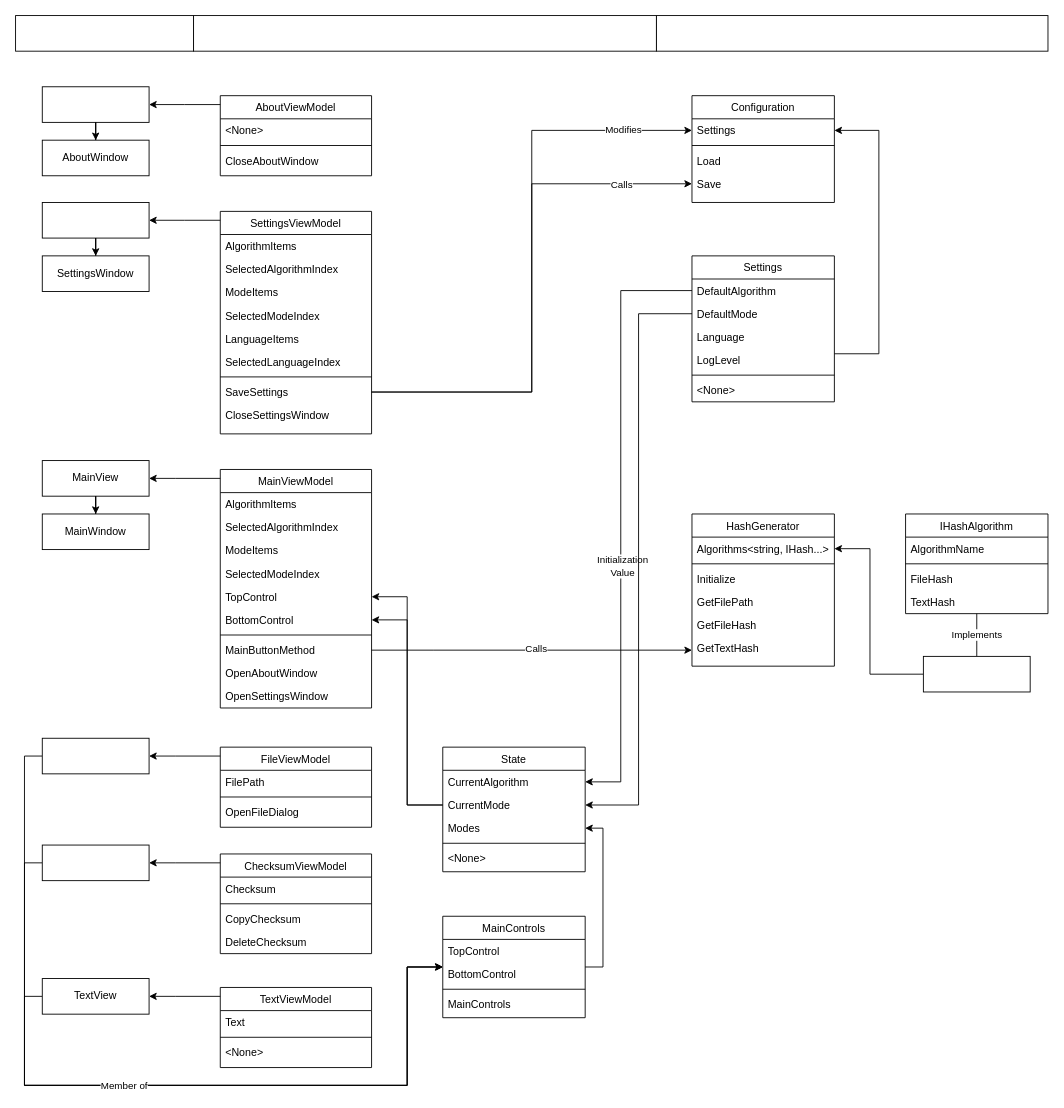
Some shapes in this 1064 by 1108 pixel diagram are drawn without their labels. The shapes that lost their labels are listed below. From the top down, each one's centre as x and y in pixels, then its label:
At pixel 104 33: "View".
At pixel 424 33: "ViewModel".
At pixel 851 33: "Model".
At pixel 95 104: "AboutView".
At pixel 95 220: "SettingsView".
At pixel 976 673: "HashAlgorithms (MD5, SHA1, SHA2)".
At pixel 95 755: "FileView".
At pixel 95 862: "ChecksumView".
